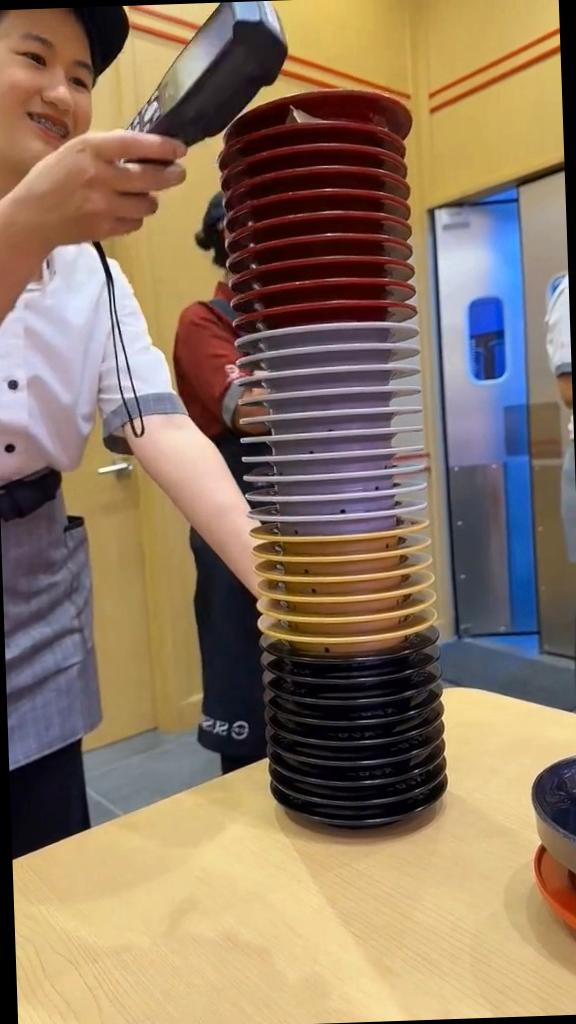Janback: (283, 684, 423, 710), (271, 650, 428, 672), (275, 668, 421, 690), (288, 804, 421, 826), (288, 708, 421, 728), (285, 768, 424, 787), (295, 728, 424, 748), (288, 786, 425, 804), (292, 749, 418, 767)
Jangold: (257, 564, 420, 592), (255, 545, 424, 571), (249, 530, 426, 551), (262, 606, 406, 631), (262, 587, 416, 609), (275, 628, 405, 648)
Janred: (220, 85, 412, 121), (243, 275, 402, 305), (226, 212, 382, 242), (219, 189, 386, 217), (240, 256, 407, 284), (211, 126, 400, 150), (234, 234, 396, 258), (243, 300, 403, 324), (222, 168, 396, 190), (216, 146, 392, 166)
Janwhite: (247, 398, 416, 428), (234, 342, 398, 368), (244, 362, 406, 388), (250, 424, 420, 448), (252, 480, 412, 505), (262, 499, 418, 523), (241, 384, 409, 405), (246, 324, 399, 346), (248, 447, 408, 467), (250, 466, 408, 482)
